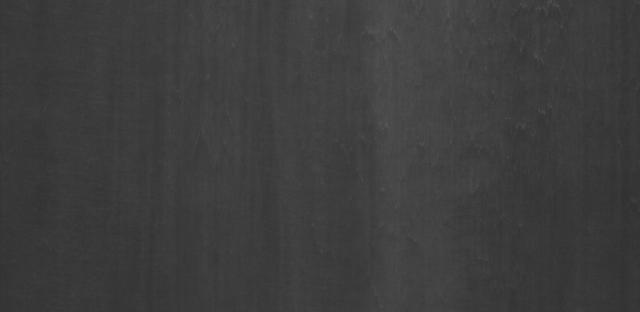silk_spot: (463, 18, 574, 136)
